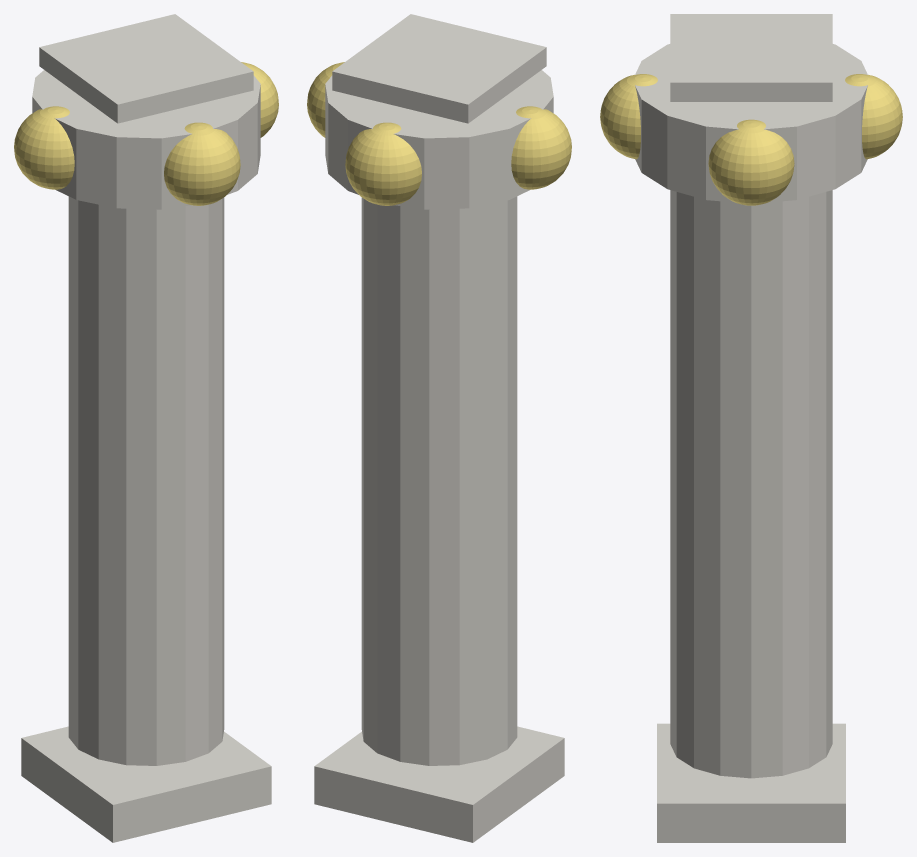
The model's file is marble_column.glb.
3 renders of one model, left to right at view 1: azimuth 30°, elevation 25°; view 2: azimuth 150°, elevation 25°; view 3: azimuth 270°, elevation 25°, orthographic. The views are drawn at different scales.
Parts seen in each view (by area): view 1: Cylinder, Cube, Cylinder.001, Cube.001, Sphere.001, Sphere, Sphere.002; view 2: Cylinder, Cube, Cylinder.001, Cube.001, Sphere.003, Sphere, Sphere.002; view 3: Cylinder, Cylinder.001, Cube, Cube.001, Sphere.002, Sphere.001, Sphere.003.
Boxes of the visible parts, box(x1,y1,x2,y2) form: Cylinder: box(68, 196, 224, 765); Cube: box(21, 726, 271, 842); Cylinder.001: box(32, 70, 260, 209); Cube.001: box(39, 14, 253, 123); Sphere.001: box(164, 122, 240, 205); Sphere: box(14, 106, 74, 189); Sphere.002: box(241, 62, 278, 137); Cylinder: box(361, 196, 517, 765); Cube: box(314, 726, 564, 842); Cylinder.001: box(325, 70, 553, 209); Cube.001: box(332, 14, 546, 123); Sphere.003: box(345, 122, 421, 205); Sphere: box(511, 106, 571, 189); Sphere.002: box(307, 62, 344, 137); Cylinder: box(670, 190, 832, 778); Cylinder.001: box(635, 44, 867, 202); Cube: box(657, 723, 845, 842); Cube.001: box(670, 14, 832, 101); Sphere.002: box(708, 119, 794, 205); Sphere.001: box(600, 74, 657, 159); Sphere.003: box(845, 74, 902, 159).
Size of the model in its own units: 0.56 by 1.54 by 0.56.
